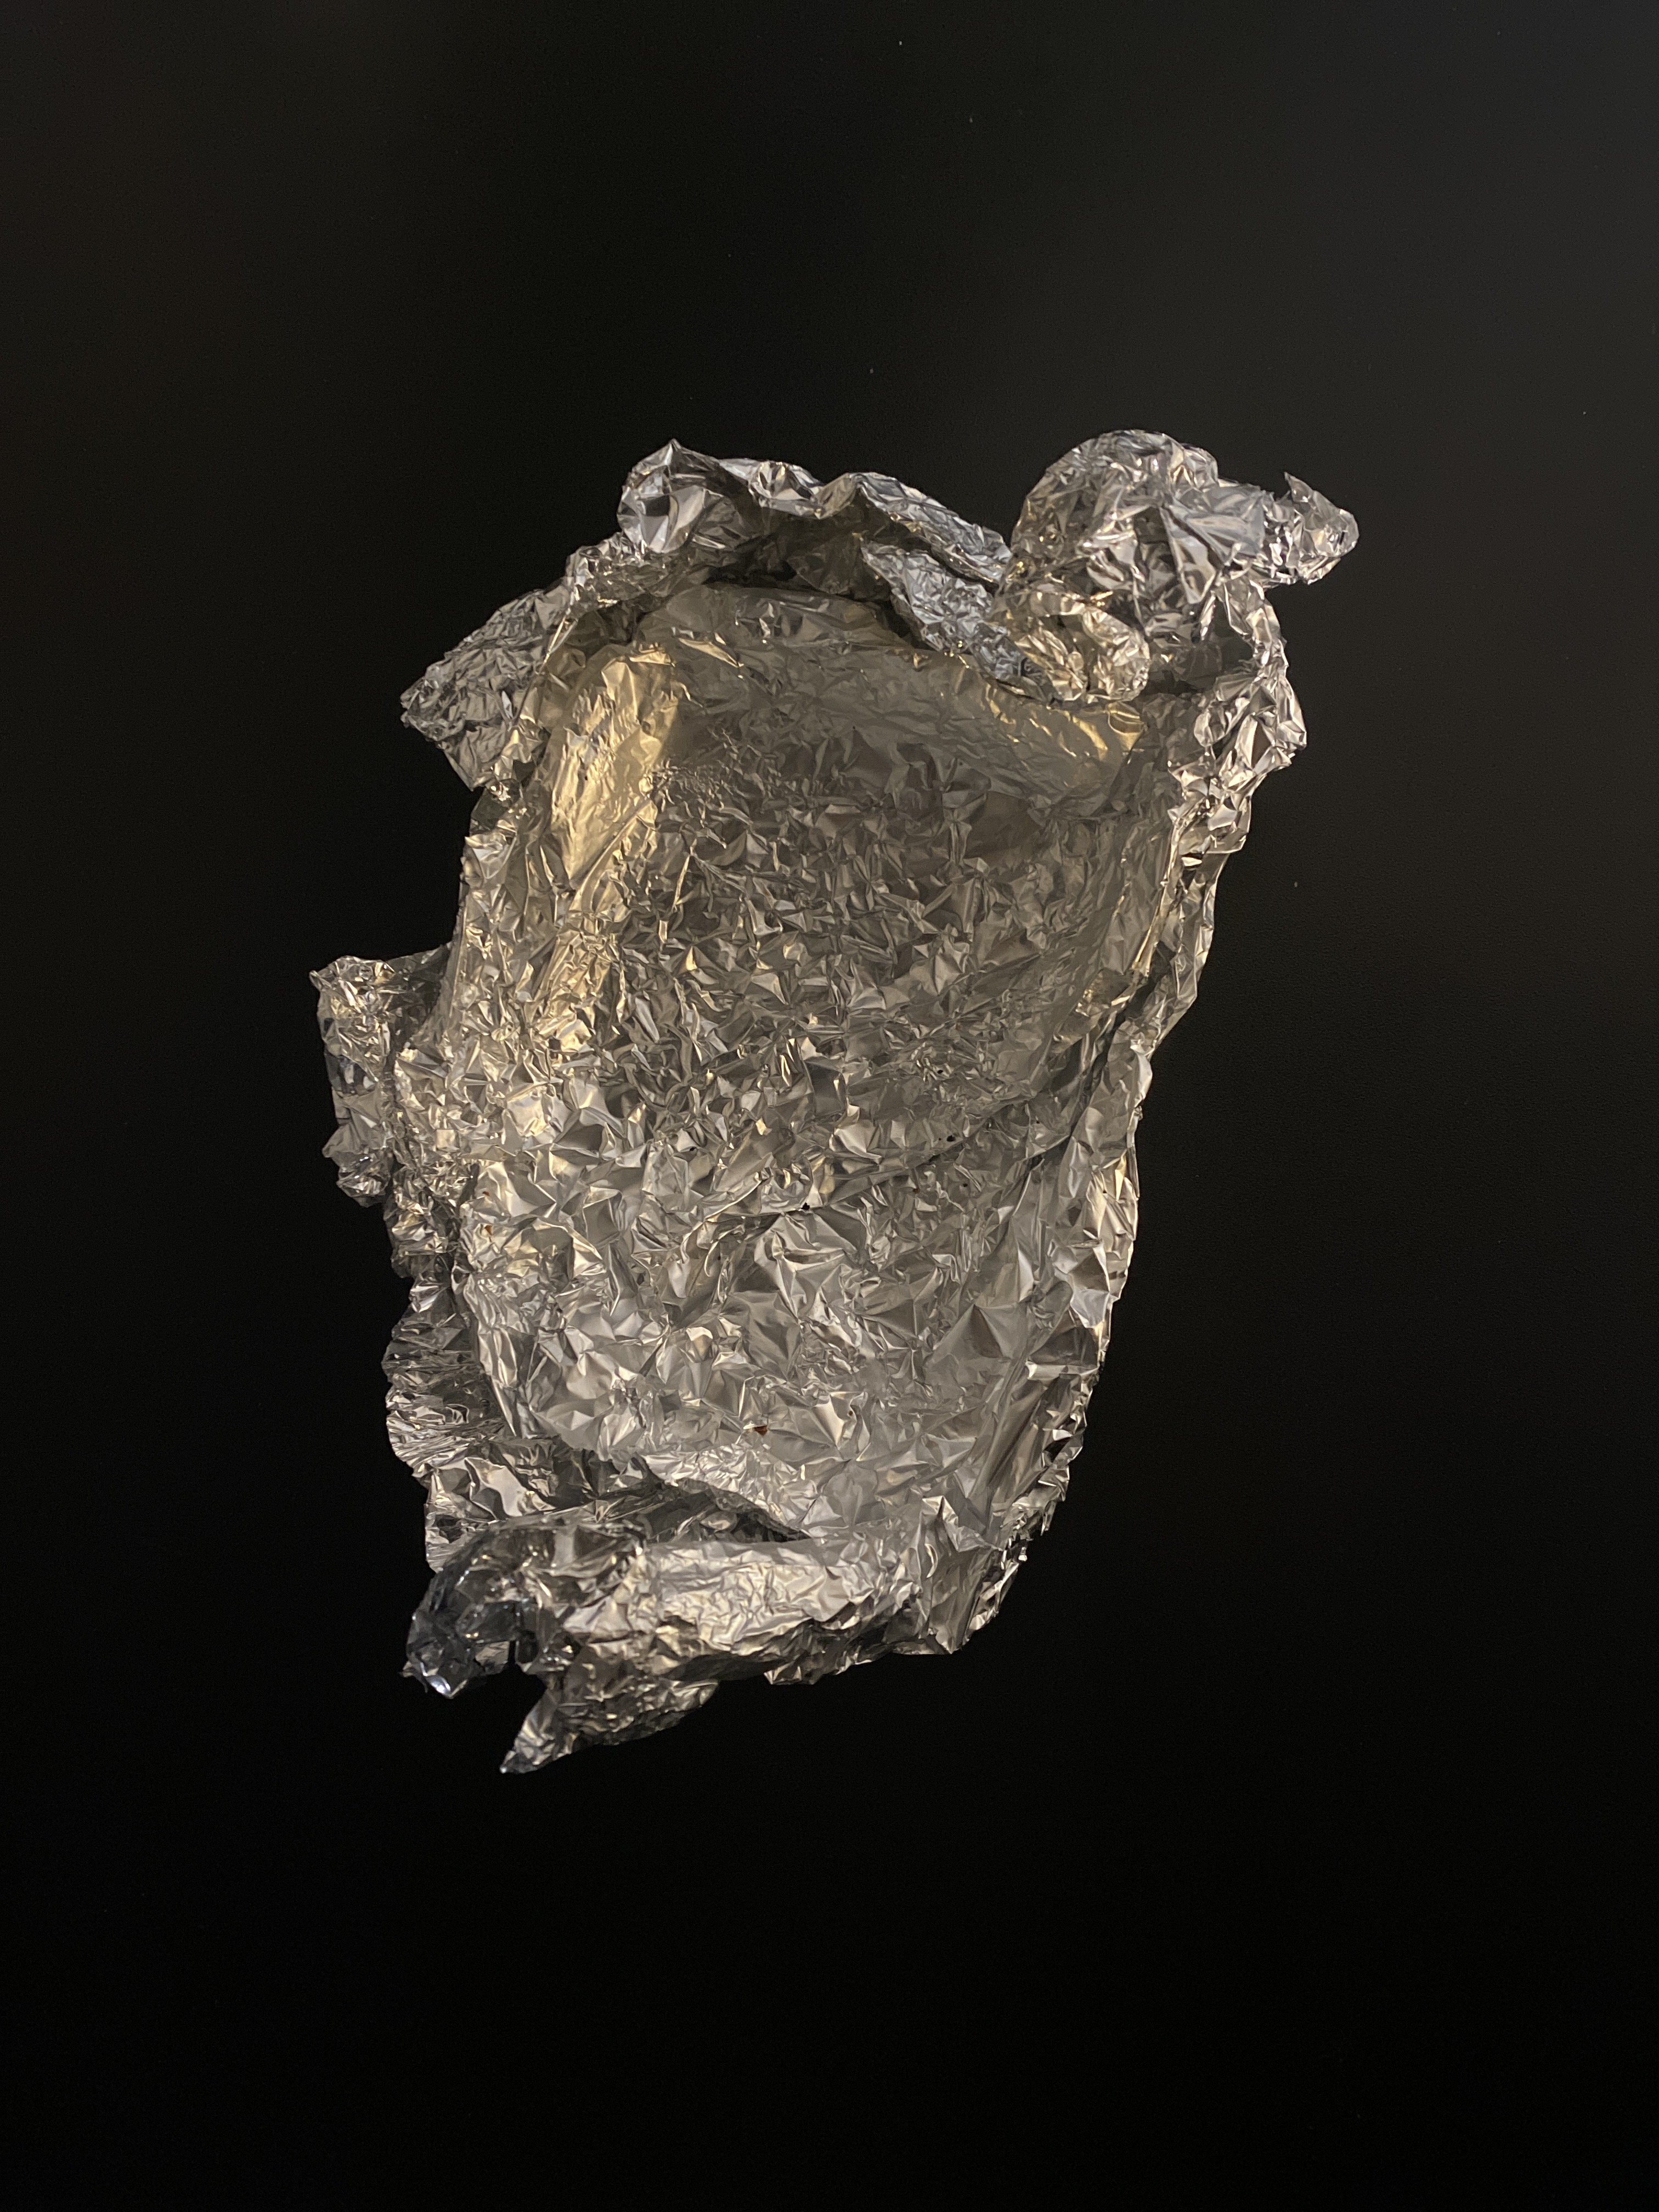metal: (261, 390, 1385, 1811)
